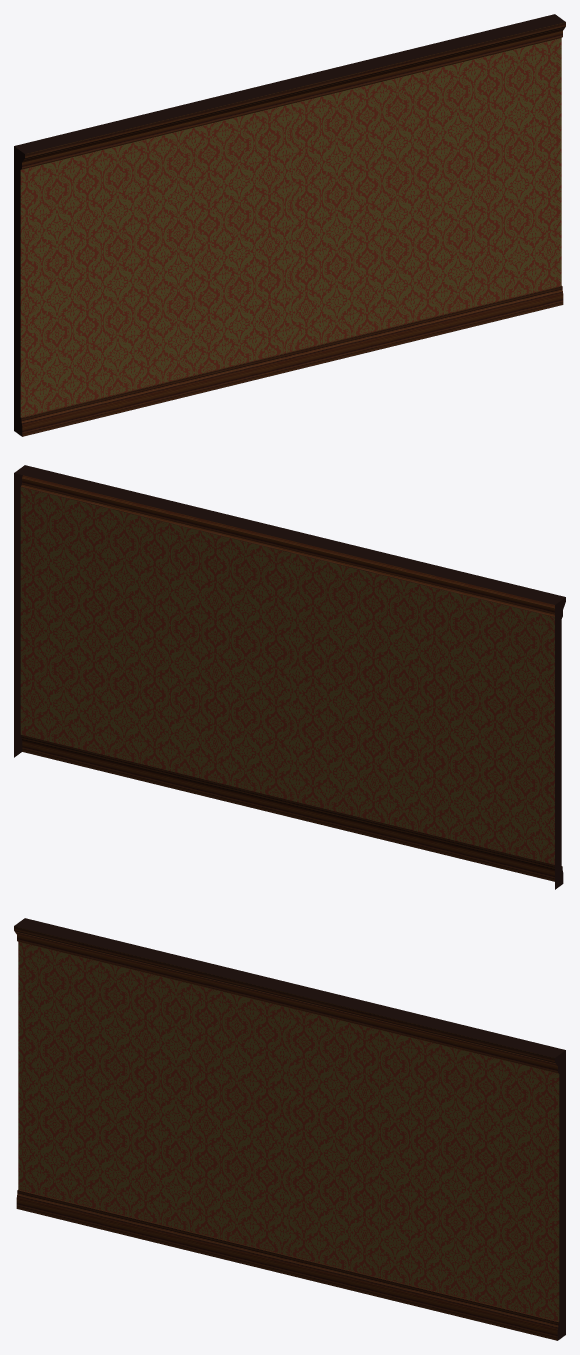
The model's file is Wall_Plain_Long.fbx.
3 renders of one model, top to bottom at view 1: azimuth 30°, elevation 25°; view 2: azimuth 150°, elevation 25°; view 3: azimuth 330°, elevation 25°, orthographic.
Parts seen in each view (by area): view 1: WallSmoothLong; view 2: WallSmoothLong; view 3: WallSmoothLong.
Part boxes in pixels (left/top/right/bottom): WallSmoothLong: left=14, top=14, right=565, bottom=436; WallSmoothLong: left=14, top=465, right=565, bottom=889; WallSmoothLong: left=14, top=918, right=565, bottom=1340.
Bounding box in the file's own units: 739 × 371 × 25.9.
